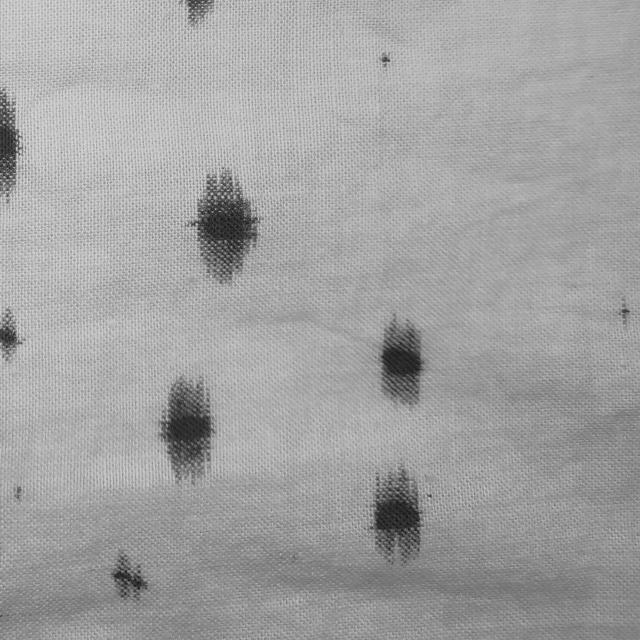Thread_other: (162, 162, 278, 310), (140, 352, 236, 497), (346, 464, 446, 592), (357, 302, 452, 427), (94, 530, 166, 621), (0, 294, 47, 395), (0, 76, 35, 207), (608, 284, 640, 346), (349, 39, 402, 75), (0, 460, 34, 513), (174, 0, 226, 34)
